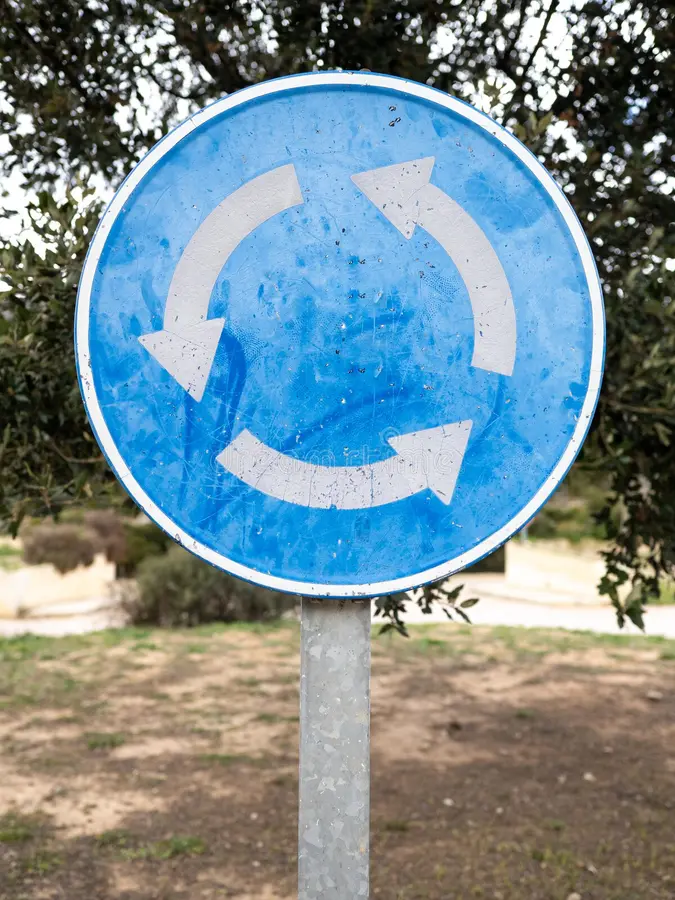roundabout: (88, 42, 620, 641)
